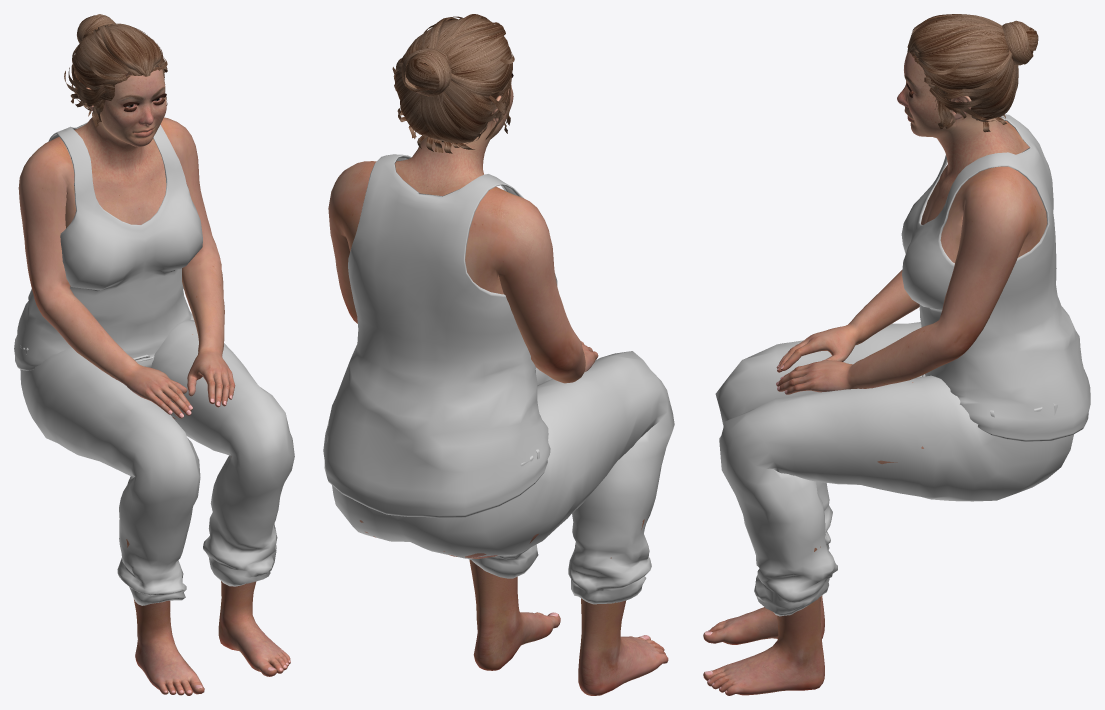
The model's file is PupilIncrease_L.fbx.
The picture shows the model from 3 angles, left to right: view 1: azimuth 30°, elevation 25°; view 2: azimuth 150°, elevation 25°; view 3: azimuth 270°, elevation 25°; orthographic projection. The views are drawn at different scales.
Visible parts, largest first — view 1: Biker_Jeans1, CC_Base_Body1, Tank_Top1, Hair1; view 2: Tank_Top1, Biker_Jeans1, CC_Base_Body1, Hair1; view 3: Biker_Jeans1, CC_Base_Body1, Tank_Top1, Hair1.
Boxes of the visible parts, bbox=[...] form: Biker_Jeans1: bbox=[20, 320, 294, 605]; CC_Base_Body1: bbox=[18, 69, 290, 695]; Tank_Top1: bbox=[14, 122, 202, 370]; Hair1: bbox=[64, 14, 167, 127]; Tank_Top1: bbox=[323, 154, 557, 518]; Biker_Jeans1: bbox=[326, 351, 674, 604]; CC_Base_Body1: bbox=[328, 73, 668, 695]; Hair1: bbox=[392, 14, 514, 153]; Biker_Jeans1: bbox=[715, 322, 1073, 616]; CC_Base_Body1: bbox=[703, 52, 1047, 695]; Tank_Top1: bbox=[901, 114, 1090, 441]; Hair1: bbox=[907, 14, 1038, 132].
Size of the model in its own units: 45.35 by 139 by 75.47.
